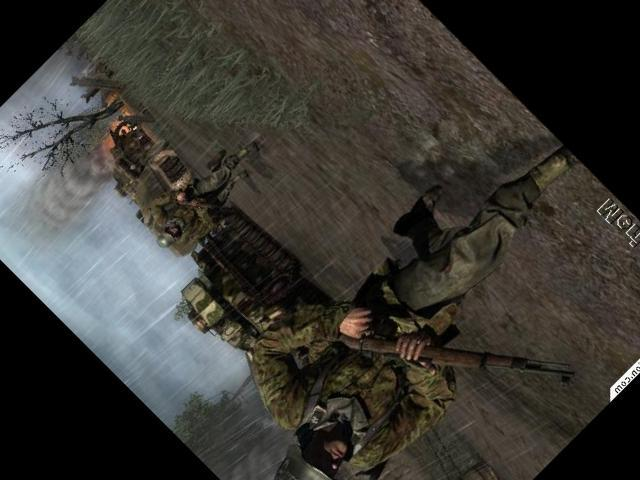larga: (339, 332, 577, 386), (177, 199, 221, 209)
